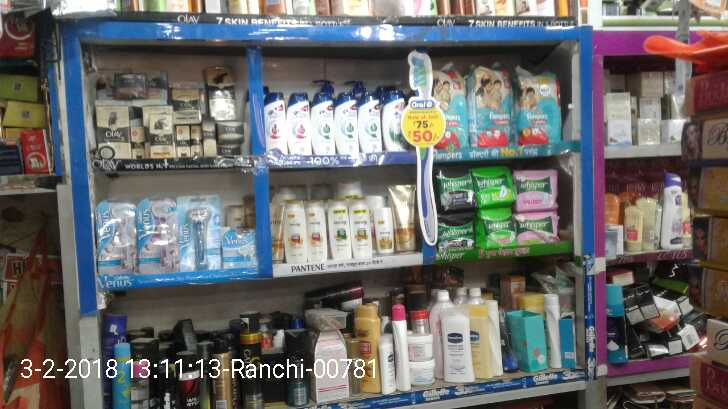venus: (139, 194, 179, 270), (179, 194, 221, 266), (99, 202, 139, 270), (221, 227, 254, 266)
